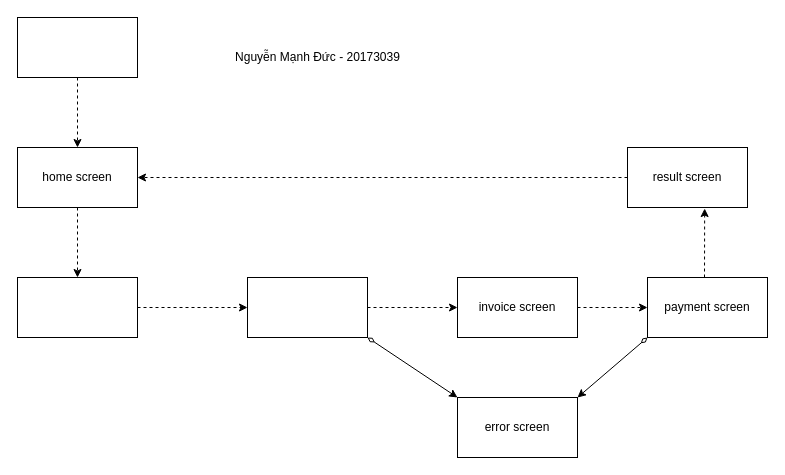
Some shapes in this 785 by 475 pixel diagram are drawn without their labels. Each missing label, with the centre of its shape:
cart screen: the point at 77,307
delivery form: the point at 307,307
splash screen: the point at 77,47
